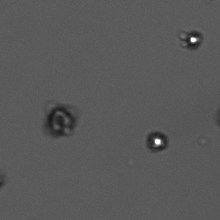Dead Cell: (40, 103, 81, 141)
Living Cell: (142, 128, 173, 153), (177, 26, 208, 51)
